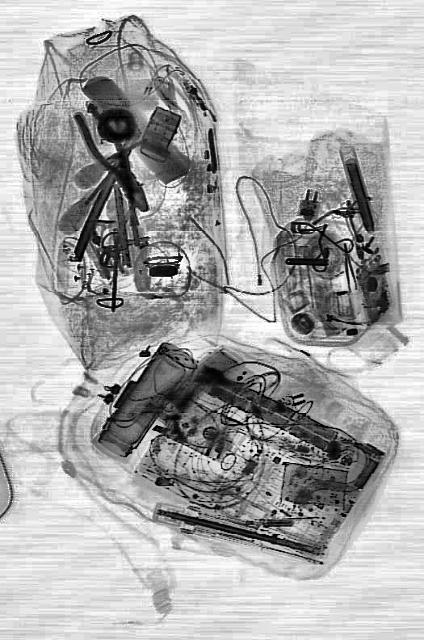Pliers: (70, 92, 160, 226)
